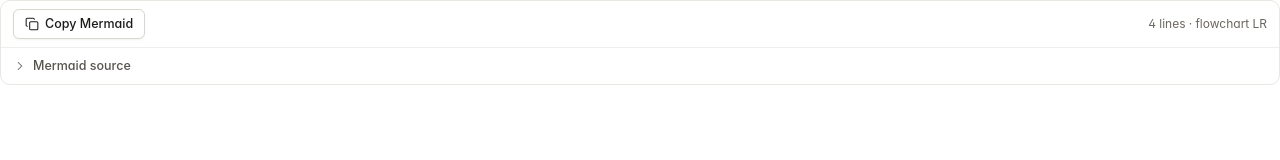
MermaidSource › a second copy restarts the 1600ms window
The image size is (1280, 160).
Later steps or results of the test are not shown.
Click the button "Copy Mermaid" at [79, 24], box [13,9,145,39]
Wait 1000 ms
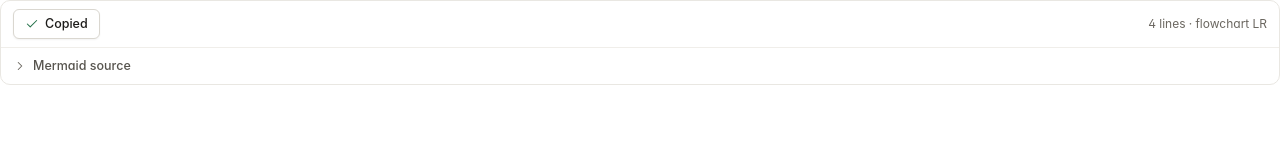
Click the button named "copy mermaid" at [56, 24], box [13,9,100,39]
Wait 1600 ms
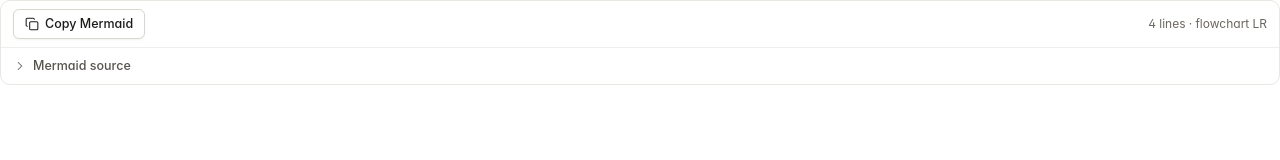
Check: the button "Copy Mermaid" is shown, box [13,9,145,39]
